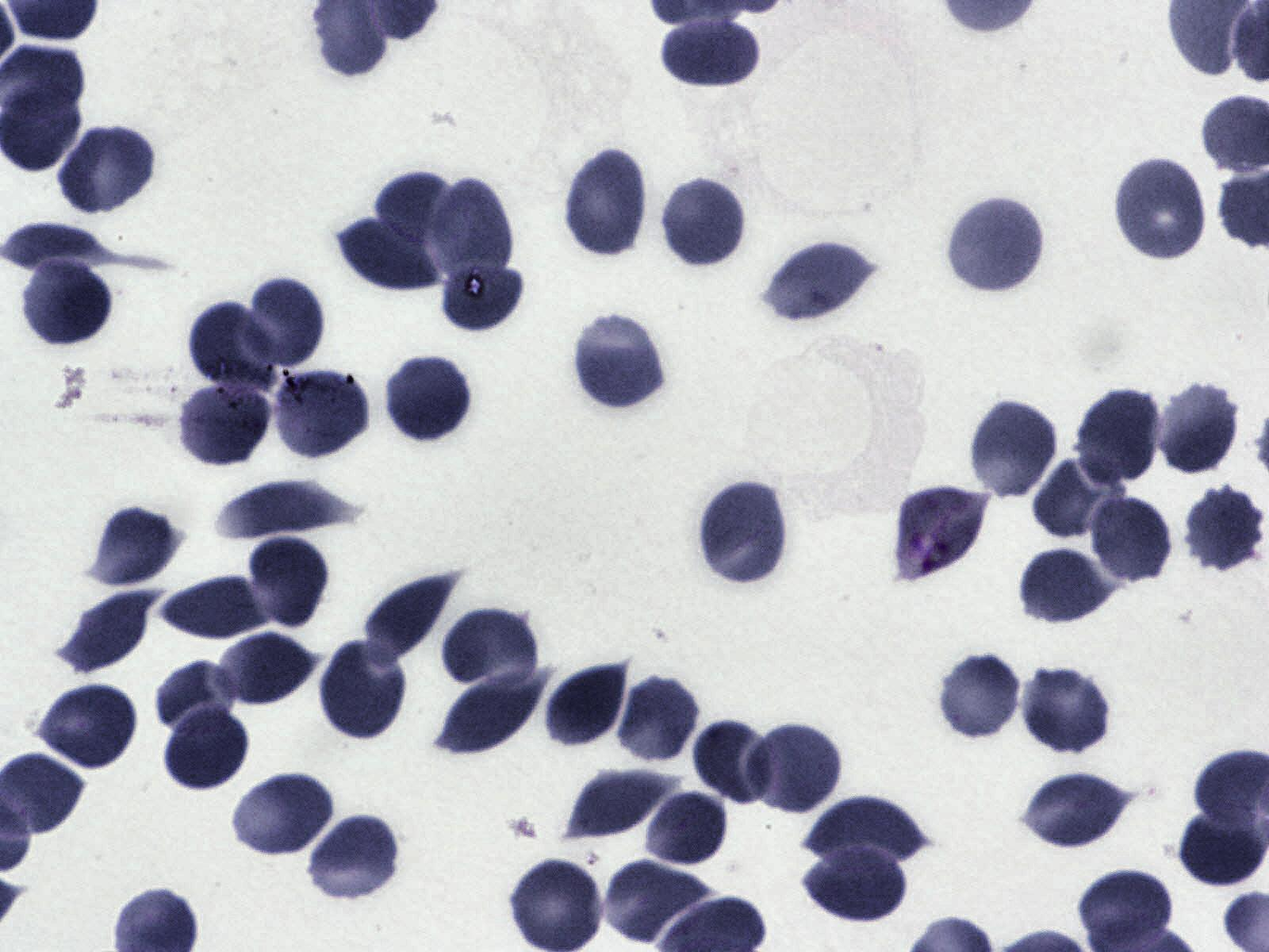Infected: (895, 486, 991, 575)
Uninfected: (698, 479, 793, 589), (318, 641, 410, 744), (427, 177, 510, 289), (602, 859, 709, 943), (658, 175, 750, 271), (57, 127, 155, 217), (809, 798, 925, 873), (1019, 665, 1113, 757), (505, 865, 605, 951), (1078, 386, 1163, 487), (188, 301, 282, 392), (948, 199, 1042, 290), (364, 574, 458, 664), (40, 681, 136, 769), (272, 368, 369, 455), (971, 397, 1057, 495), (234, 770, 334, 854), (1087, 491, 1174, 587), (567, 148, 645, 255), (441, 669, 544, 750), (1118, 161, 1203, 259), (750, 723, 841, 814), (1157, 379, 1241, 477), (767, 244, 876, 319), (1077, 869, 1175, 952), (577, 321, 658, 420), (243, 274, 326, 370), (385, 354, 474, 443), (1026, 773, 1133, 847), (219, 481, 359, 537), (803, 846, 907, 921), (337, 217, 441, 292), (545, 660, 631, 750), (165, 704, 251, 792), (240, 543, 326, 631), (1183, 485, 1268, 574), (219, 631, 314, 710), (181, 382, 268, 466), (643, 785, 730, 869), (21, 263, 112, 343), (309, 820, 401, 899), (692, 720, 777, 805), (615, 674, 698, 760), (1179, 807, 1268, 887), (1035, 457, 1124, 537), (156, 662, 242, 744), (443, 609, 538, 683), (665, 20, 760, 92), (565, 770, 673, 833), (941, 653, 1019, 740), (159, 577, 266, 639), (1021, 548, 1113, 620), (94, 505, 179, 582), (440, 263, 525, 335), (377, 172, 460, 244), (64, 598, 148, 669)
